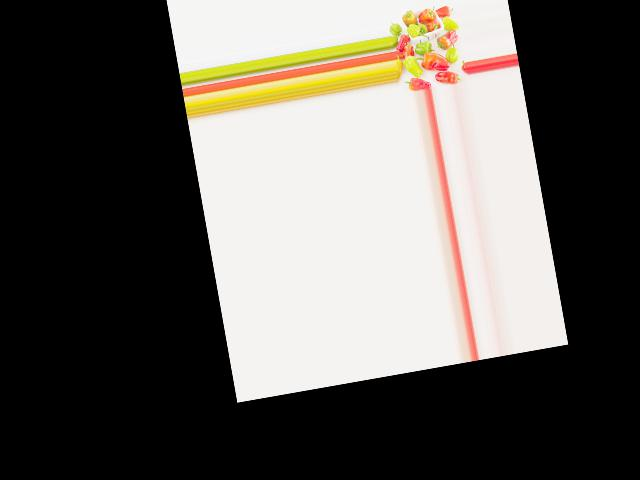bell_pepper: (402, 73, 428, 93)
